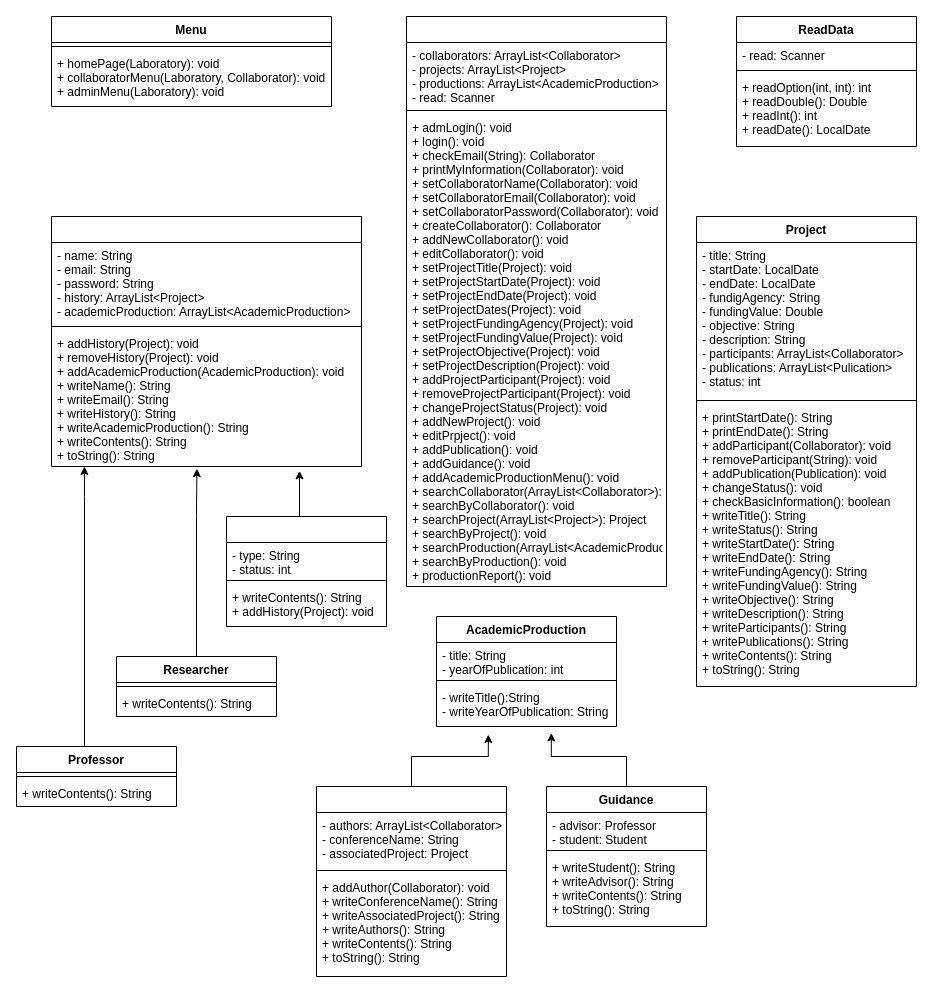
This 933x993 diagram has some shape labels left out. The shapes that lost their labels are listed below. From the top down, each one's box as (x1, y1, x2, y2) in pixels, then its label:
(406, 16, 666, 586): Laboratory
(50, 216, 362, 466): Collaborator
(226, 516, 386, 626): Student
(316, 786, 506, 976): Publication
